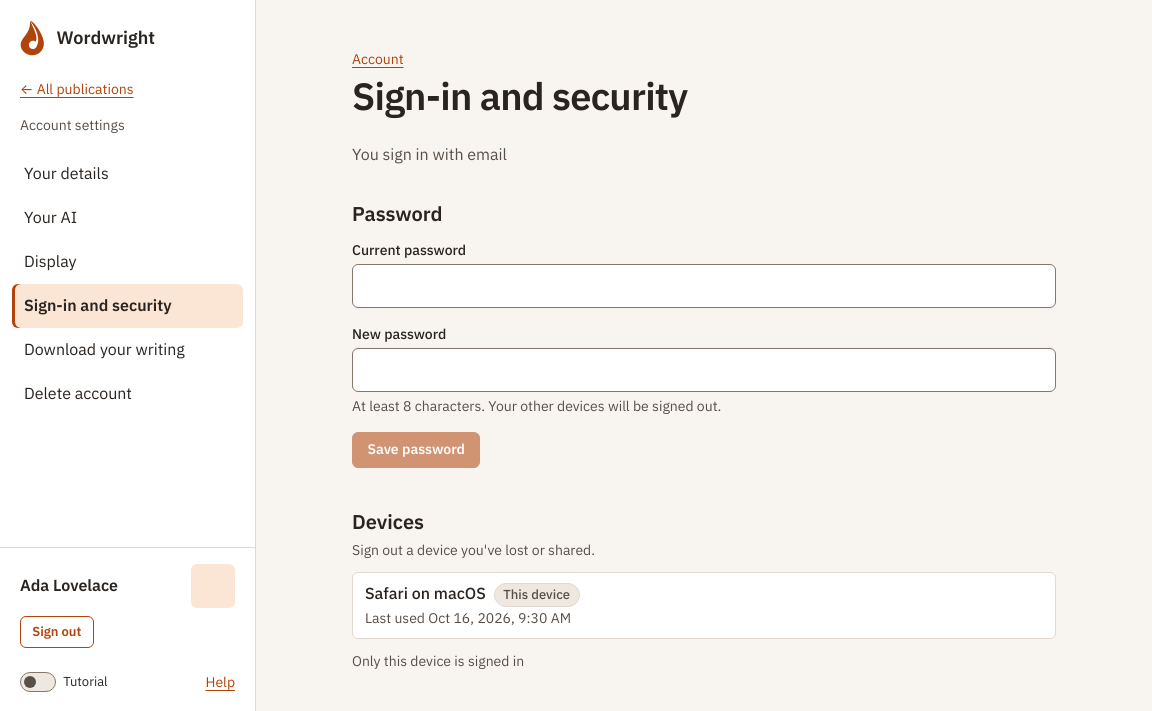
Test: changing a password › sends both passwords, confirms, and clears the fields
Type "my old password" into the password field labelled "Current password" at point(704, 286), box [352,264,1056,308]
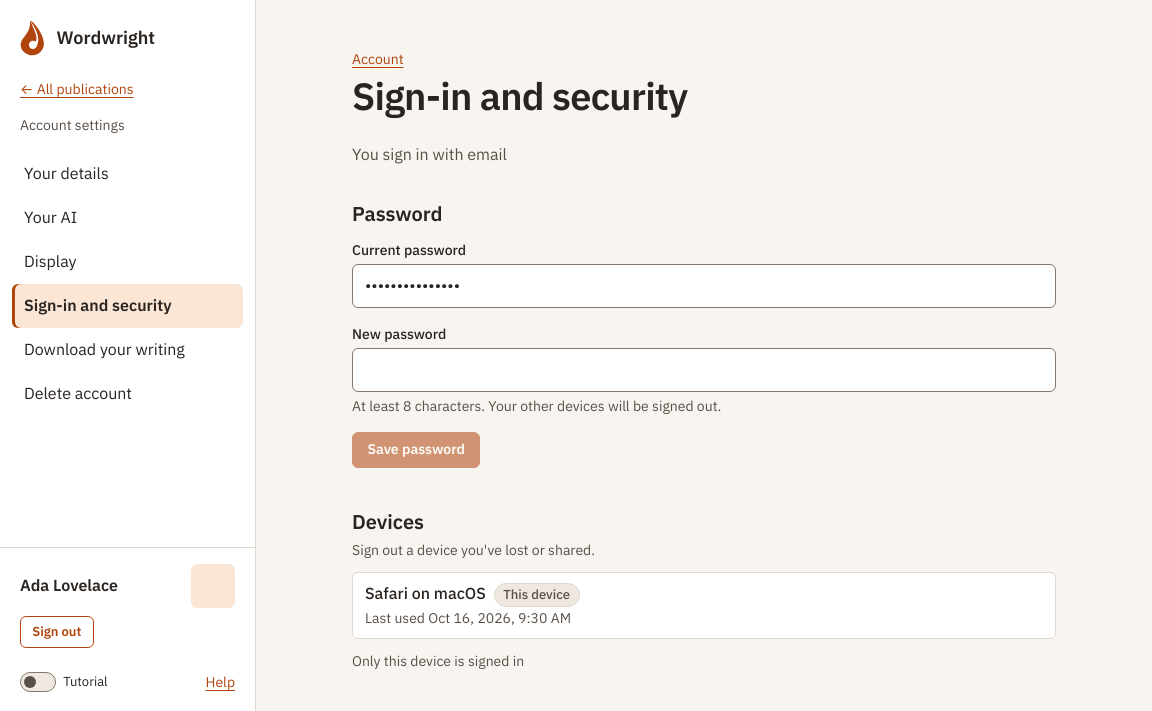
Type "a brand new password" into the password field labelled "New password" at point(704, 370), box [352,348,1056,392]
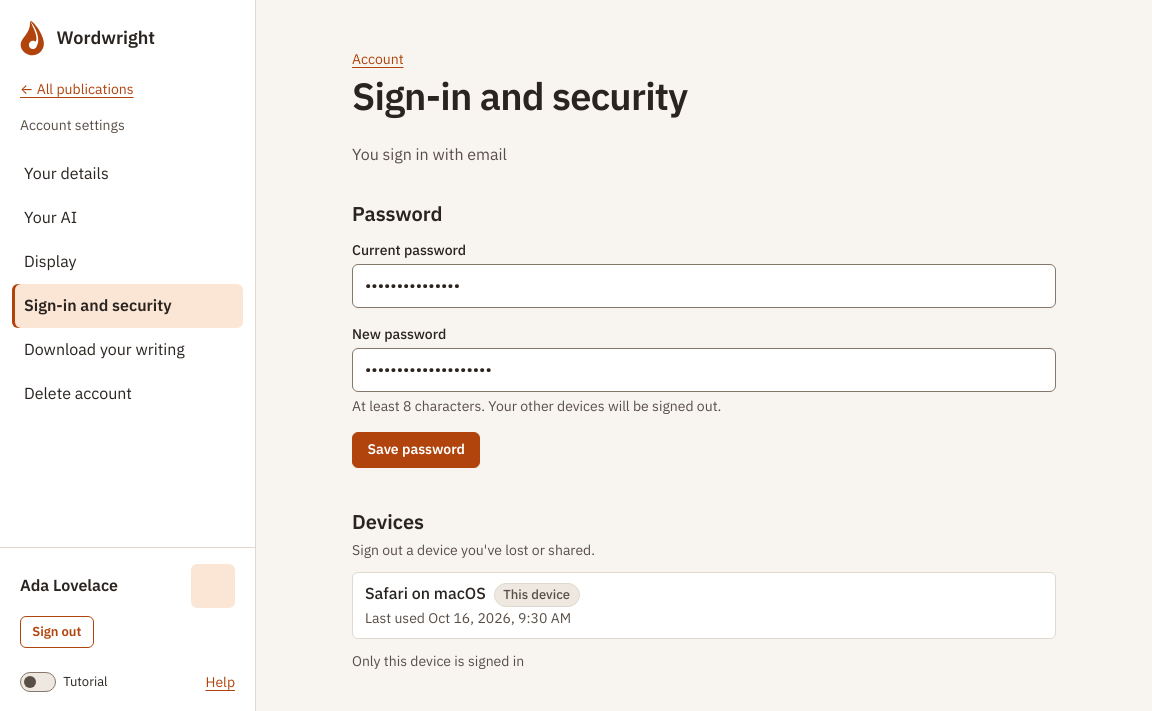
Click the button "Save password" at point(416, 450), box [352,432,480,468]
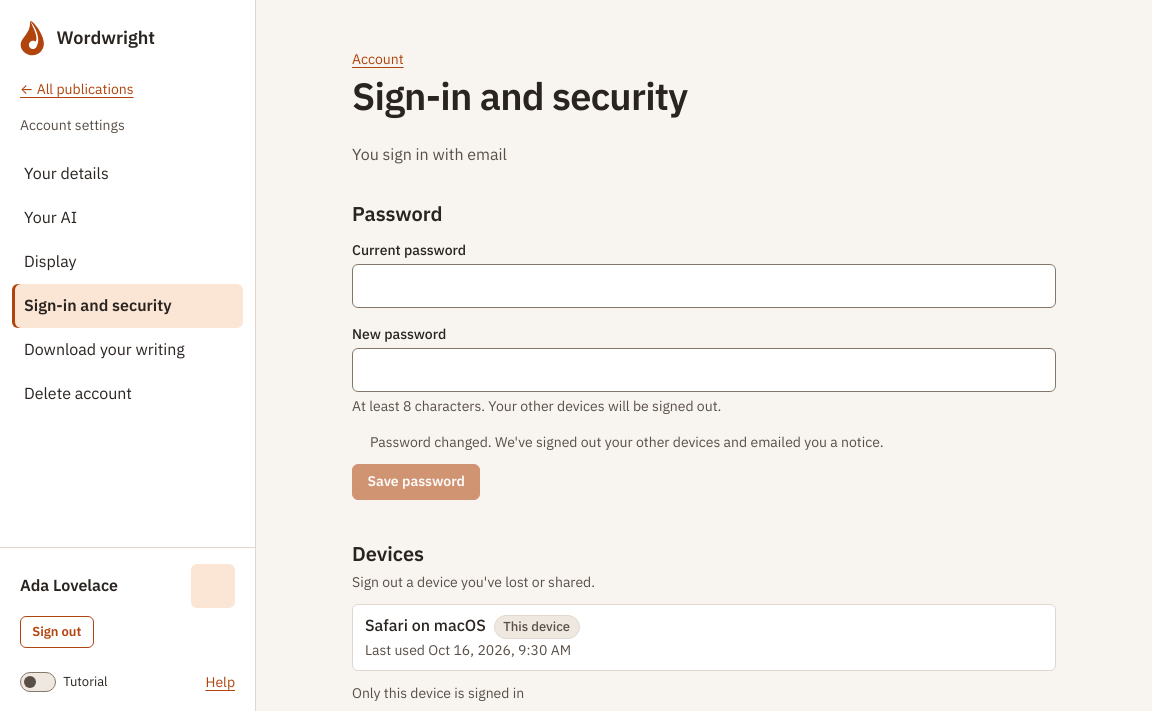
Expected: the text "signed out your other devices" is shown, [370,433,883,451]
Expected: the password field labelled "Current password" is empty, [352,264,1056,308]
Expected: the password field labelled "New password" is empty, [352,348,1056,392]
